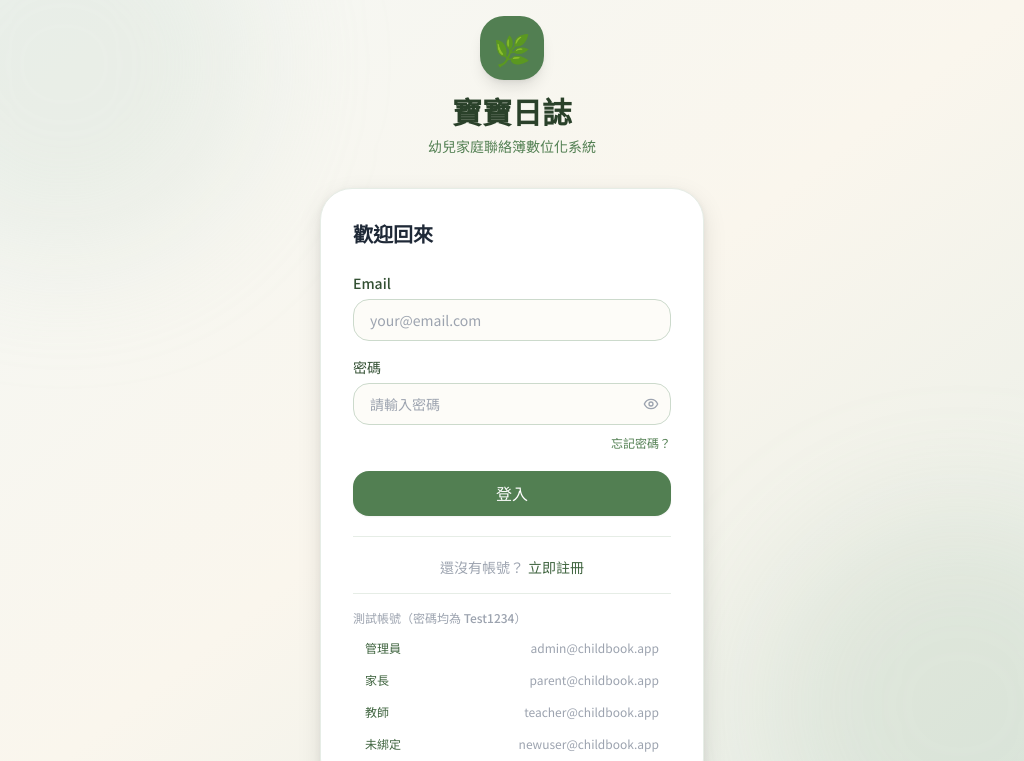
it: LoginPage (v2.2 email-based) › empty submit shows validation error
What coordinates should you click on to do the following:
click the button "登入"
I would click on:
 (512, 493)
Its box is [353,471,671,516].
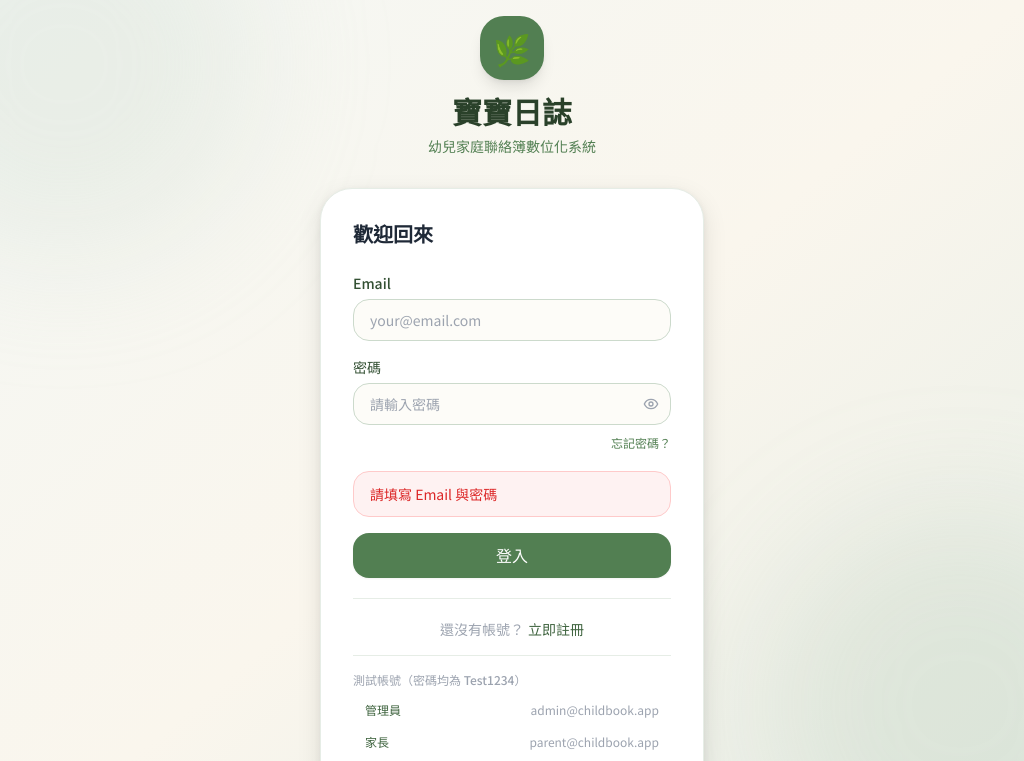
Result: the text "請填寫 Email 與密碼" is shown at [353,471,671,517]
